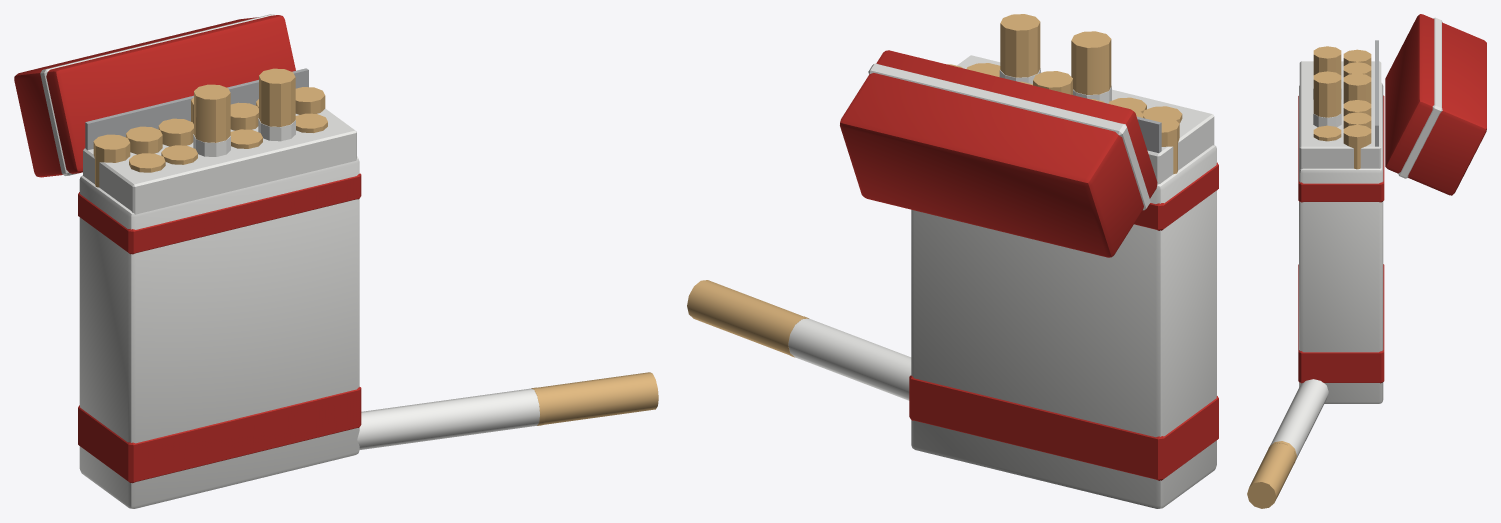
File: CigarettePack.fbx
The picture shows the model from 3 angles, left to right: view 1: azimuth 30°, elevation 25°; view 2: azimuth 150°, elevation 25°; view 3: azimuth 270°, elevation 25°; orthographic projection. The views are drawn at different scales.
Visible parts, largest first — view 1: CigarettePack_Mesh; view 2: CigarettePack_Mesh; view 3: CigarettePack_Mesh.
Part boxes in pixels (box(x1,y1,x2,y2)): CigarettePack_Mesh: box(14, 14, 658, 508); CigarettePack_Mesh: box(687, 14, 1218, 508); CigarettePack_Mesh: box(1247, 14, 1486, 508).
Size of the model in its own units: 0.1196 by 0.0875 by 0.0625.
